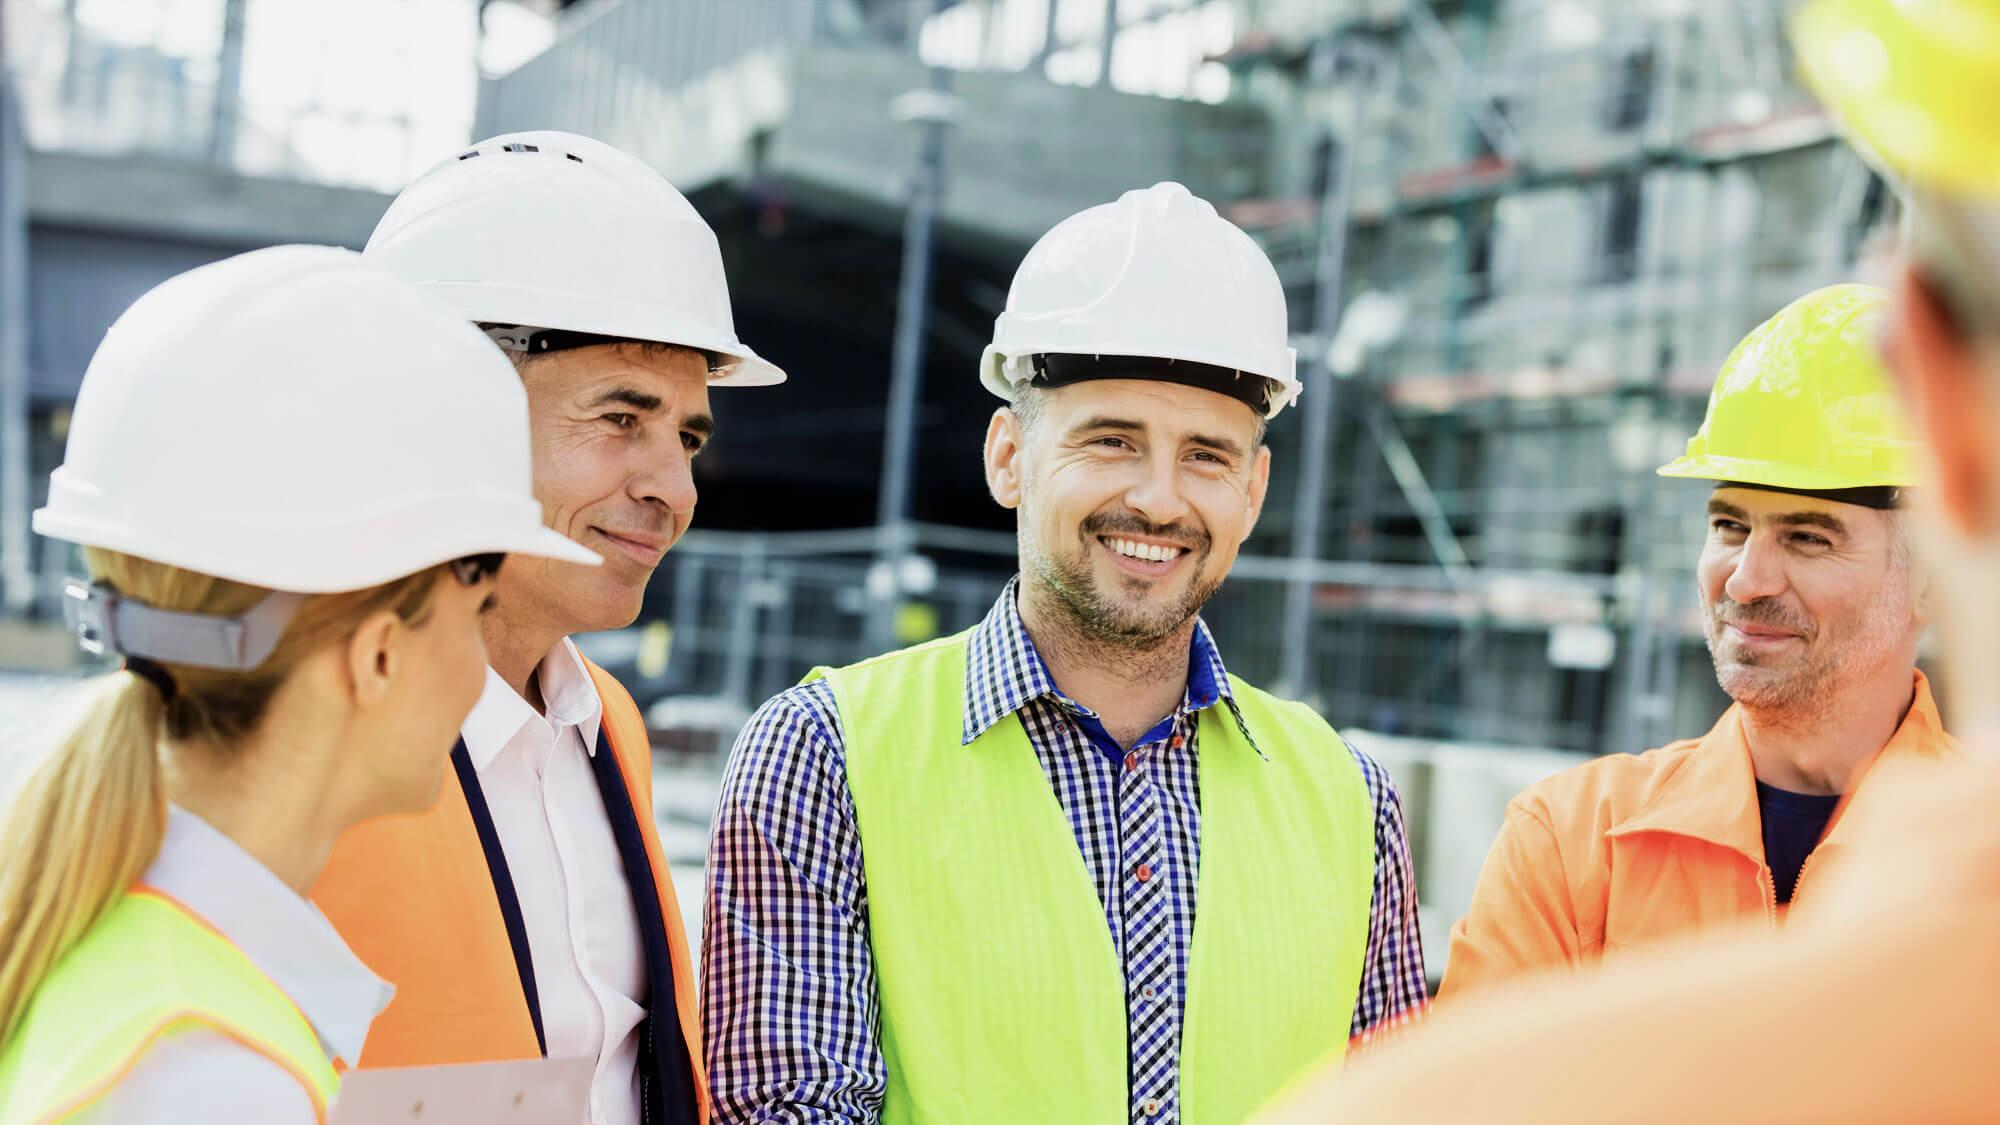helmet: (34, 249, 598, 581), (371, 128, 793, 383), (979, 181, 1299, 413), (1661, 279, 1935, 488)
